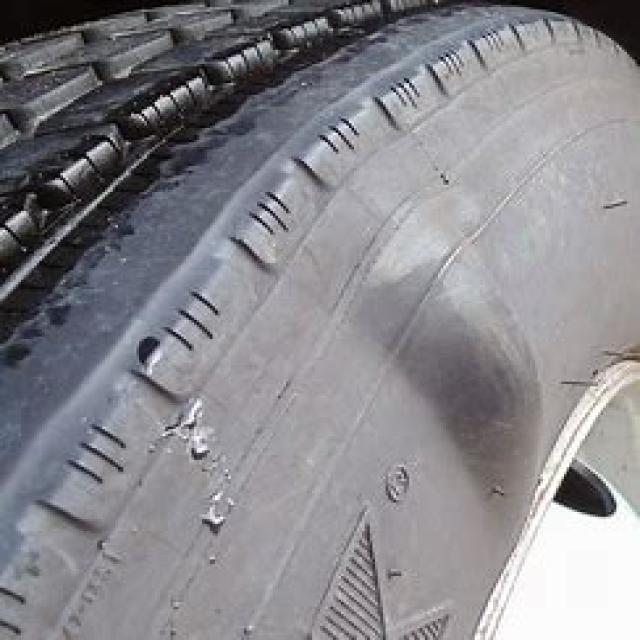Bulge: (334, 187, 558, 554)
